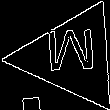M_S: (43, 30, 99, 83)
